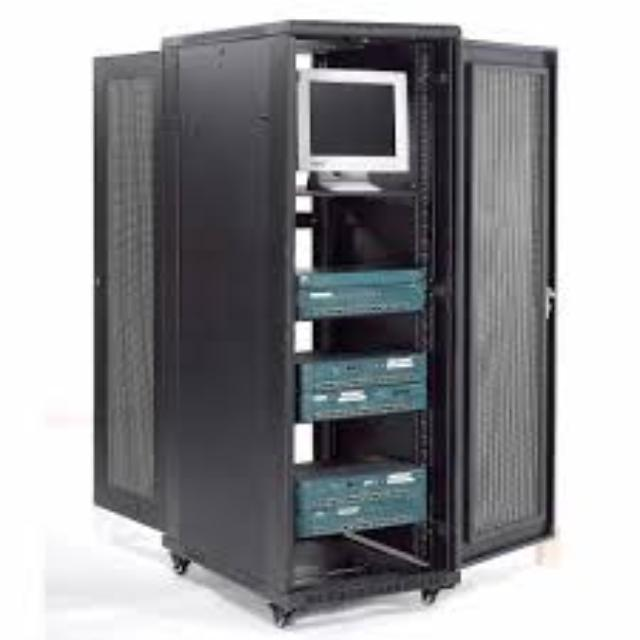Server: (235, 21, 469, 640)
